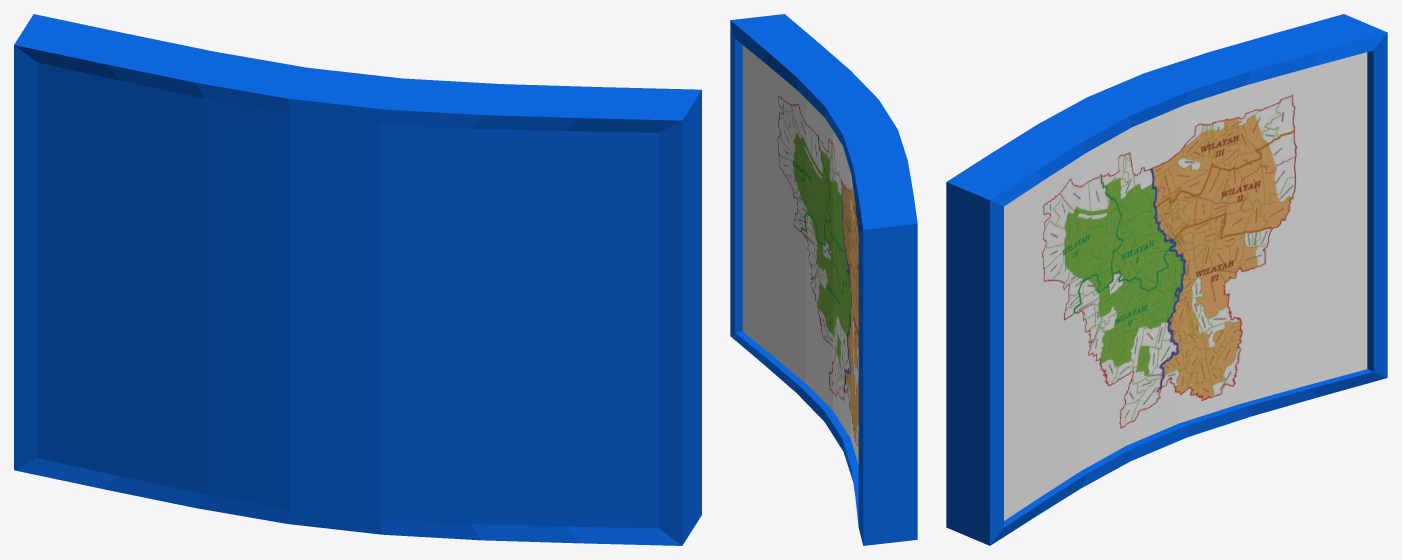
The model's file is peta-a.glb.
The picture shows the model from 3 angles, left to right: view 1: azimuth 30°, elevation 25°; view 2: azimuth 150°, elevation 25°; view 3: azimuth 270°, elevation 25°; orthographic projection. The views are drawn at different scales.
Parts seen in each view (by area): view 1: Cube.020; view 2: Cube.020; view 3: Cube.020.
Part boxes in pixels (x1,y1,x2,y2): Cube.020: (14,14,701,545); Cube.020: (730,14,917,545); Cube.020: (946,14,1387,545).
Size of the model in its own units: 3.7 by 3.2 by 3.7.
Materials: 2 (2 with a texture image).
